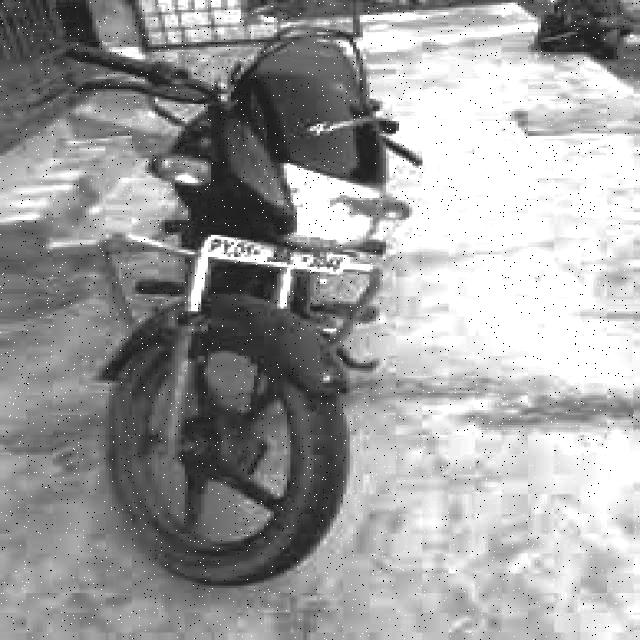Bike: (58, 3, 425, 591)
